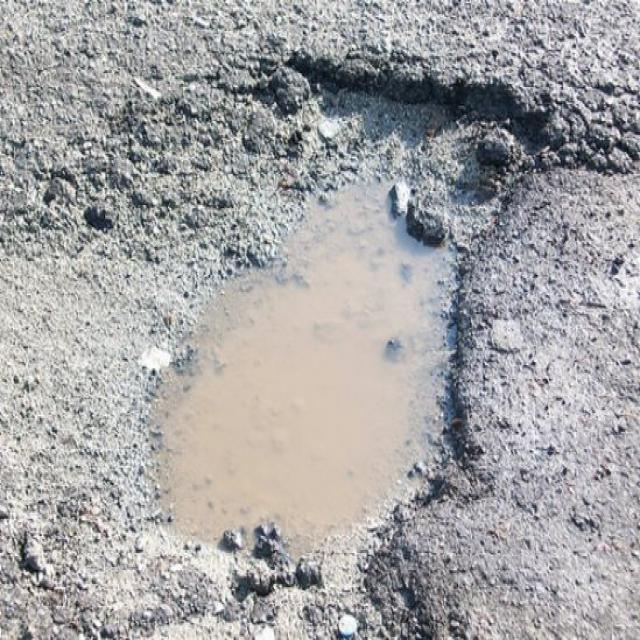pothole: (120, 41, 550, 562)
